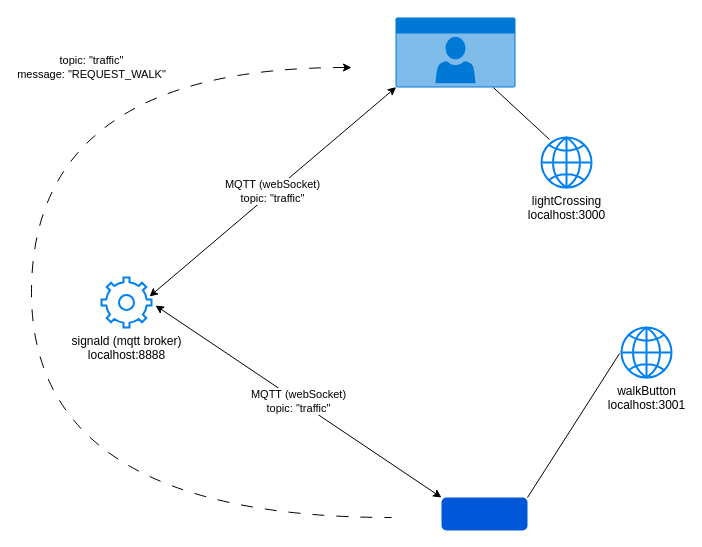
Some shapes in this 702 by 547 pixel diagram are drawn without their labels. The centre of each missing label's shape, as x and y in pixels:
"Traffic viz" belongs at pixel 455 52.
"walkButton" belongs at pixel 484 513.
